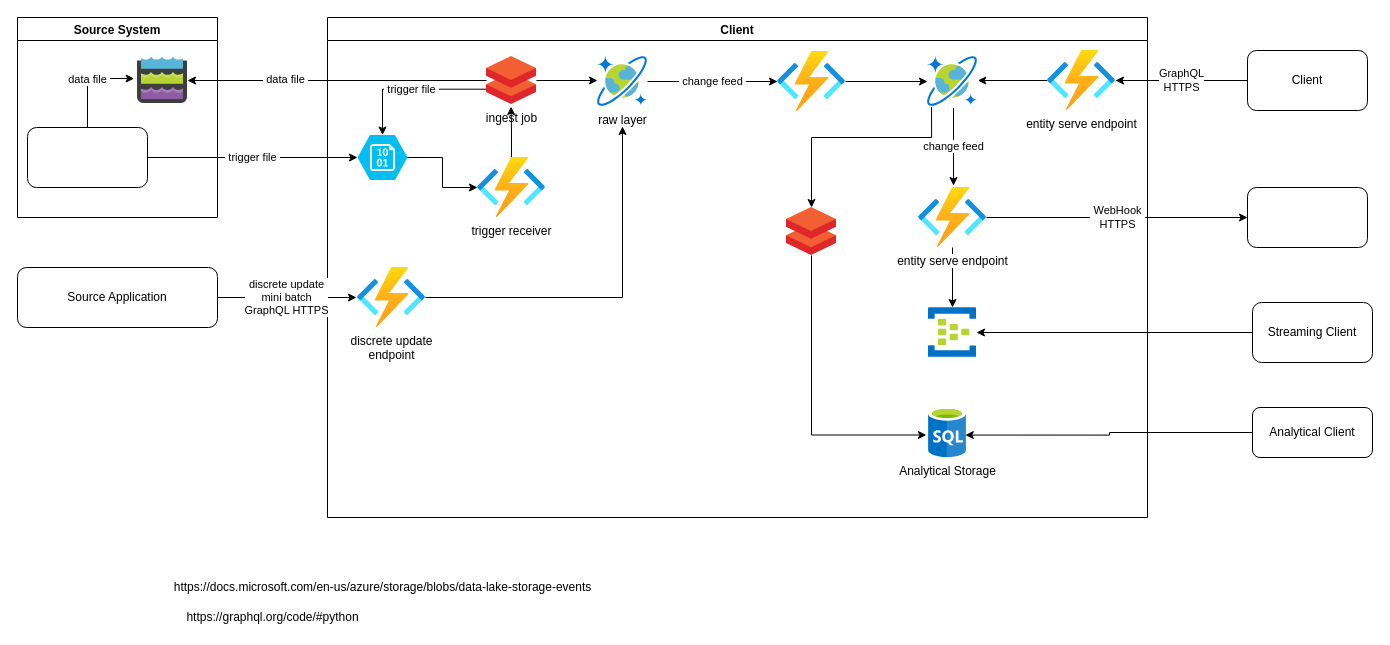
Some shapes in this 1390 by 645 pixel diagram are drawn without their labels. Each missing label, with the centre of its shape:
analytics builder: point (811, 231)
edge store: point (162, 80)
entity update hub: point (952, 332)
Export: point (87, 157)
inbound handler: point (811, 81)
Observer Client: point (1307, 217)
trigger store: point (382, 157)
